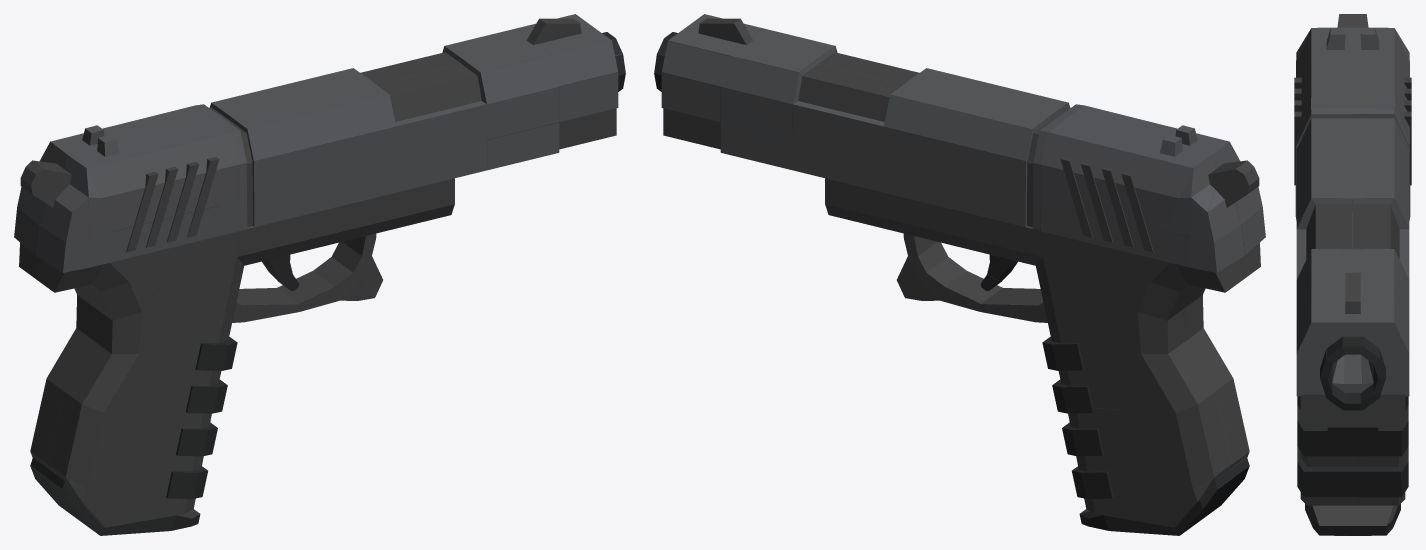
The model's file is pistol.gltf.
3 views of the same model, side by side, from view 1: azimuth 30°, elevation 25°; view 2: azimuth 150°, elevation 25°; view 3: azimuth 270°, elevation 25° (orthographic). The views are drawn at different scales.
Parts seen in each view (by area): view 1: Pistol_5.001; view 2: Pistol_5.001; view 3: Pistol_5.001.
Part boxes in pixels (box(x1,y1,x2,y2)): Pistol_5.001: box(14, 14, 625, 535); Pistol_5.001: box(654, 14, 1265, 535); Pistol_5.001: box(1294, 14, 1411, 535).
Bounding box in the file's own units: 1.82 × 1.2 × 0.2744.
Materials: 1 (1 with a texture image).
